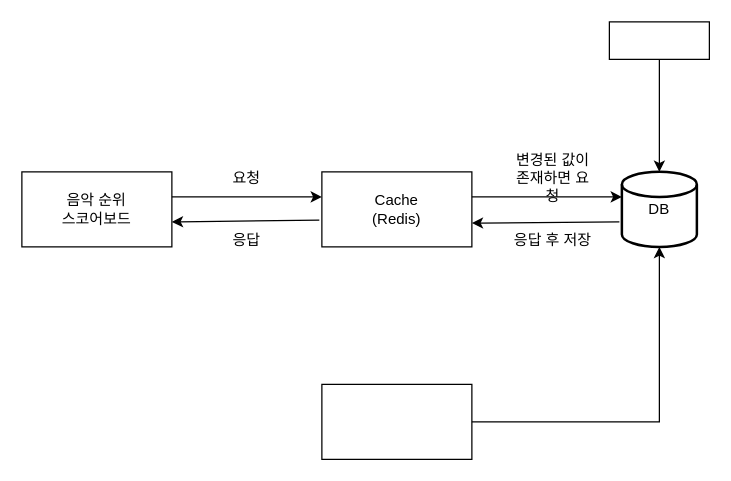
Image size: 731x481. Some labels were removed from this diagram. The box of each missing label's shape, as (x1, y1, x2, y2) in pixels:
Batch Job (일간/주간/월간): (321, 383, 472, 459)
음악 청취: (608, 21, 709, 59)
